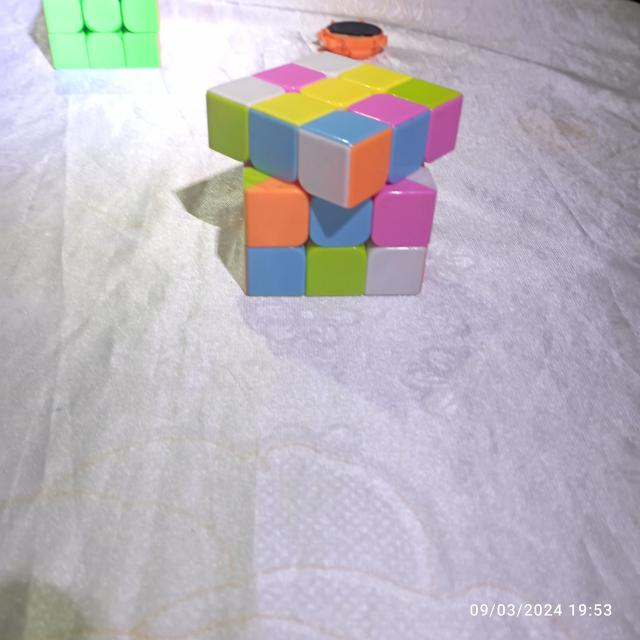Rub: (204, 44, 462, 302), (41, 0, 165, 72)
